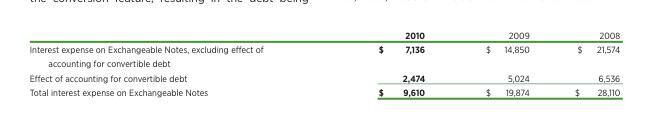table: (28, 29, 619, 97)
table column: (28, 29, 320, 97), (320, 29, 454, 97), (454, 29, 551, 97), (551, 29, 619, 97)
table column header: (28, 29, 619, 41)
table row: (28, 41, 619, 70), (28, 70, 619, 84), (28, 84, 619, 97), (28, 29, 619, 41)
